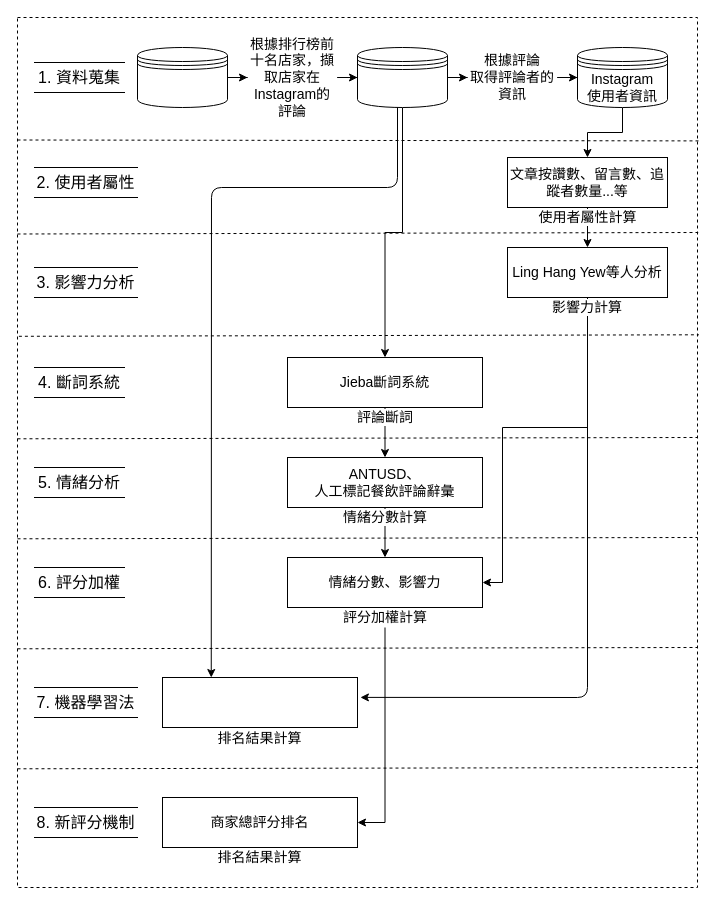
Image size: 719x905. Some labels were removed from this diagram. The centre of each missing label's shape, as x and y in pixels:
"MENU美食誌排行榜" belongs at (x=182, y=77).
"店家打卡數、主題標籤數、 影響力" belongs at (x=260, y=702).
"評論資料庫" belongs at (x=402, y=77).
